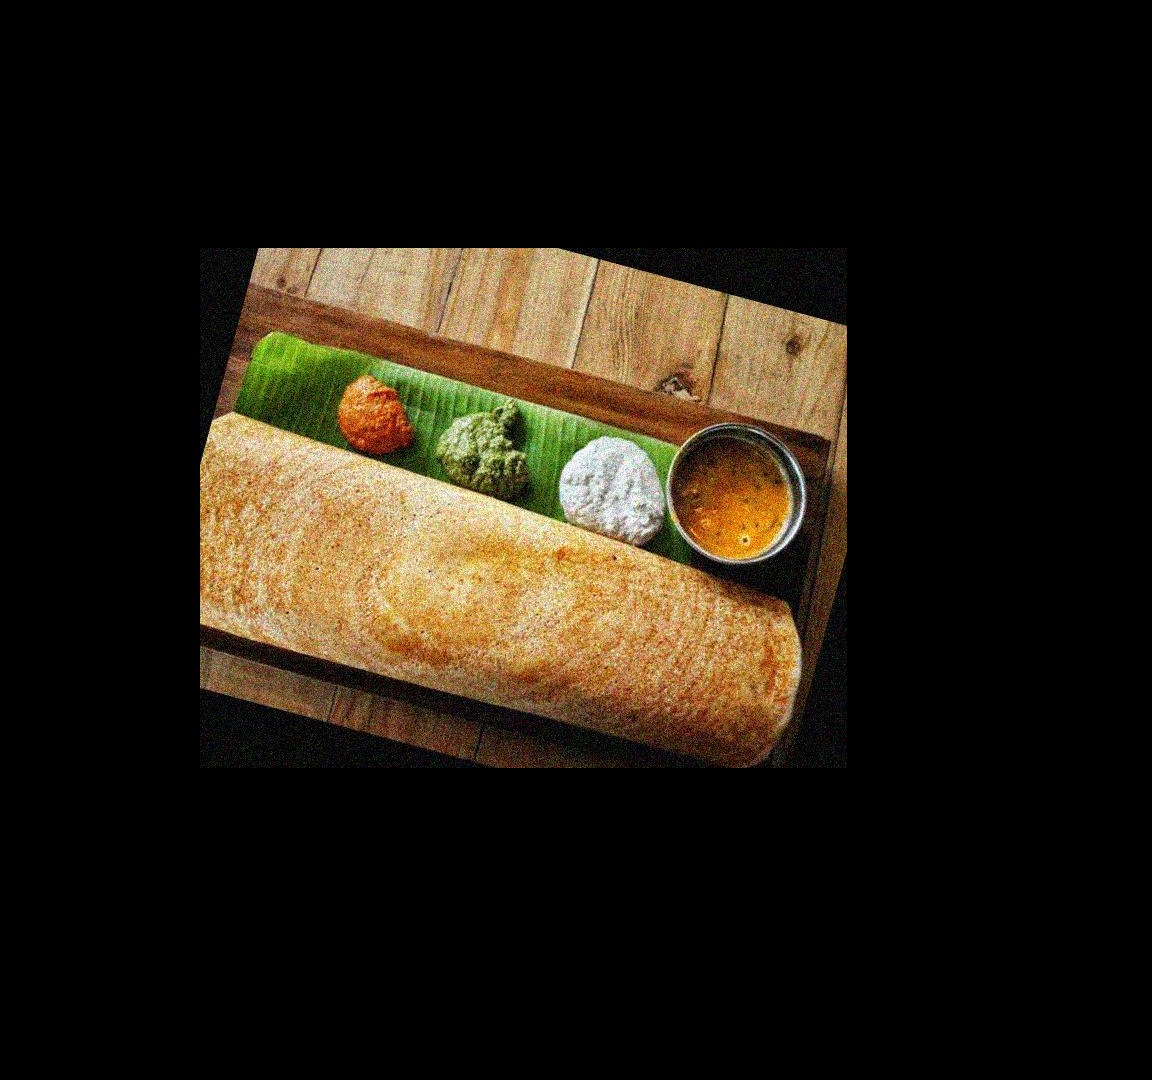dosa: (197, 411, 804, 764)
